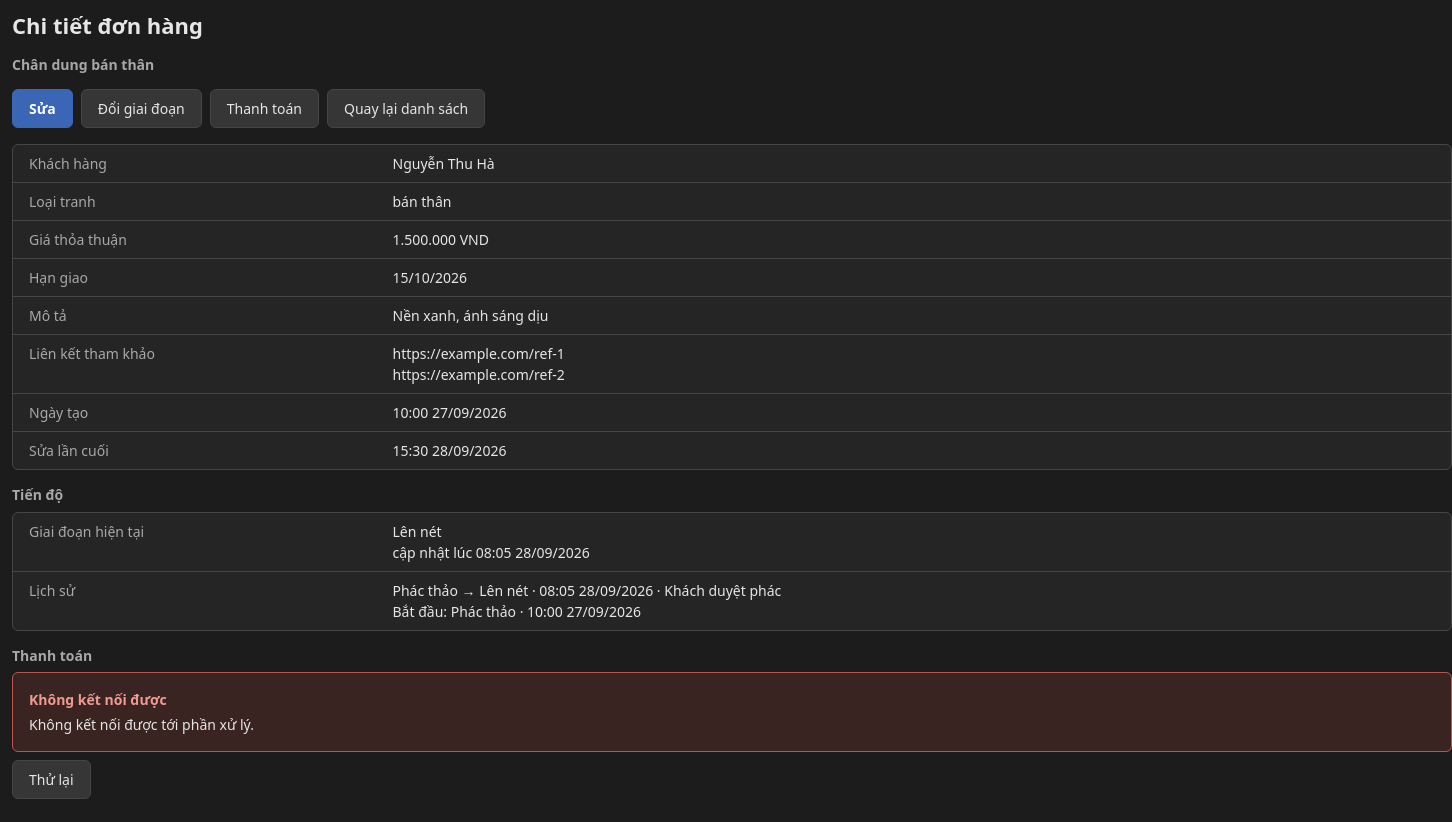
Test case: page commission_detail, part "Thanh toán" (D4) › "Thử lại" of the part loads the part again only
The image size is (1452, 822).
Check: the message "Không kết nối được Không kết nối được tới phần xử lý." is shown, box [12, 672, 1451, 752]
Click the button "Thử lại": point(51, 780) [12, 760, 91, 799]
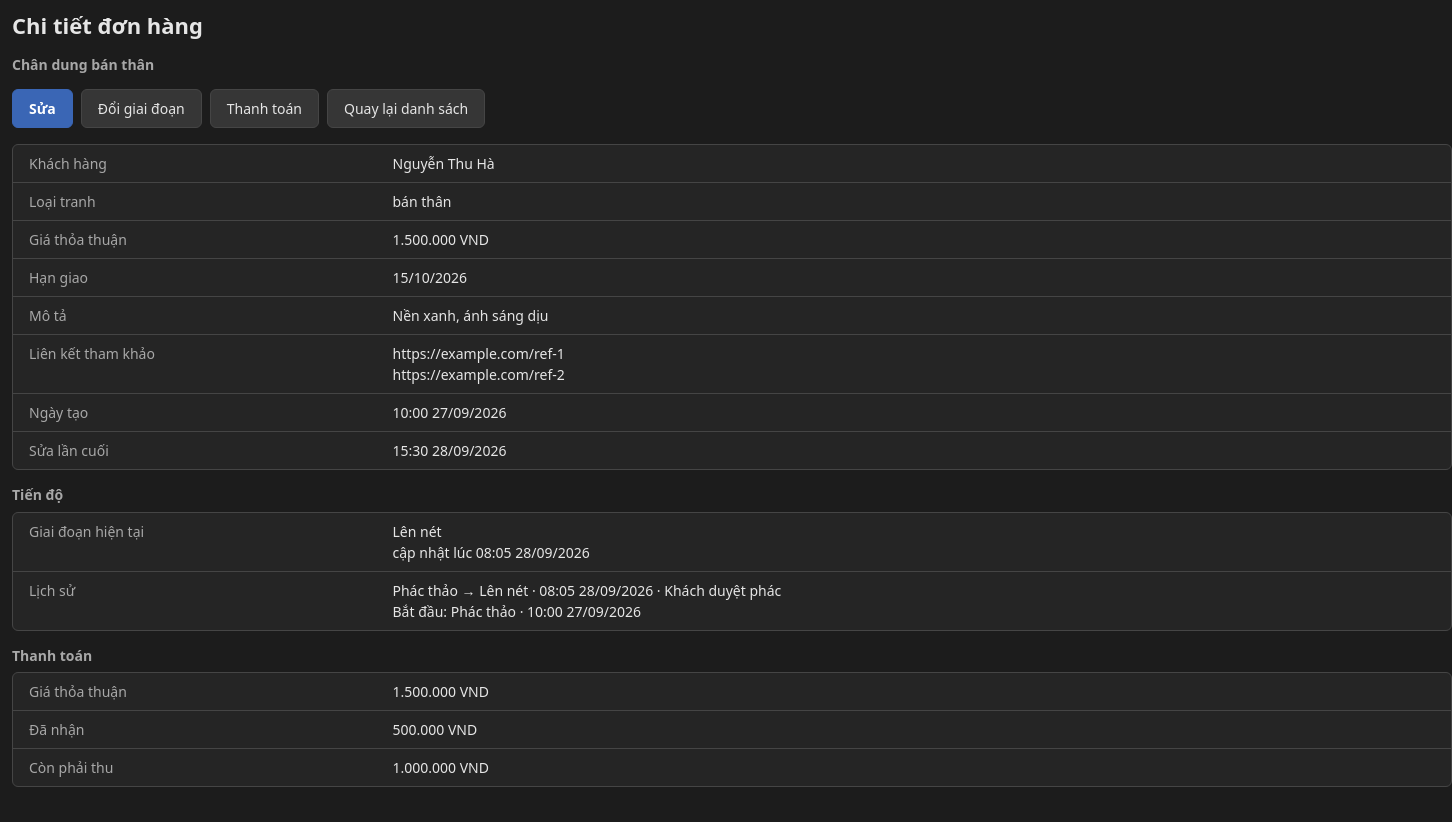
Check: the element named "Số dư đơn hàng" is shown, box [12, 672, 1451, 787]
